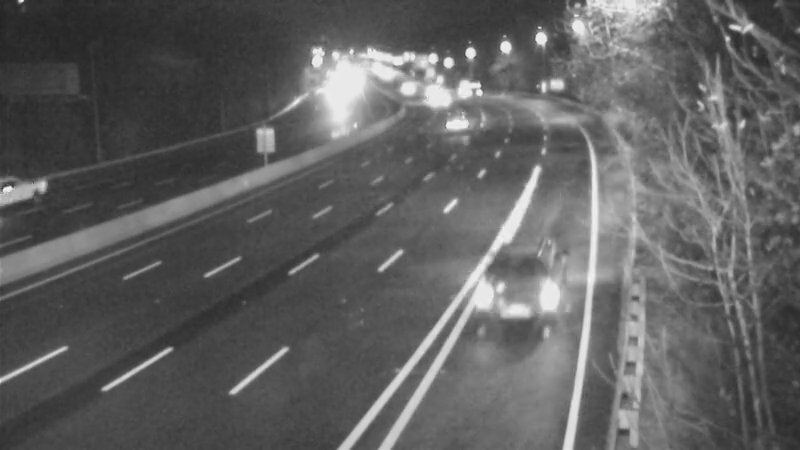vehicle: (462, 254, 542, 334), (1, 153, 64, 233), (436, 58, 486, 108), (378, 61, 428, 111), (405, 65, 455, 115), (412, 73, 462, 123), (429, 90, 479, 140), (312, 71, 362, 121)
